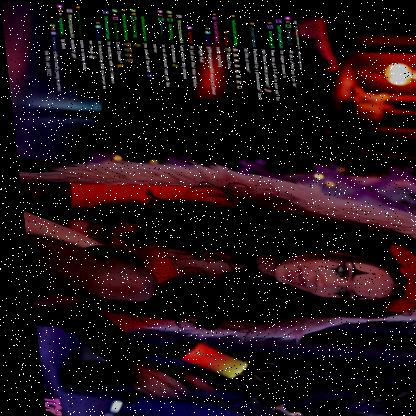streamer: (15, 170, 416, 410)
